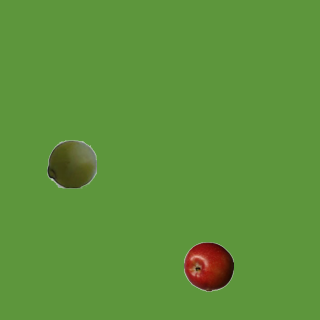Apple Braeburn: (183, 241, 233, 291)
Grape White 4: (46, 138, 96, 188)
